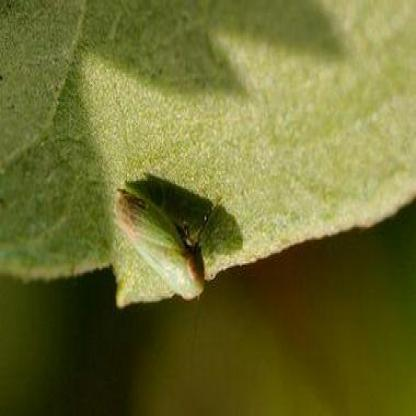green-leafhopper: (109, 183, 206, 306)
